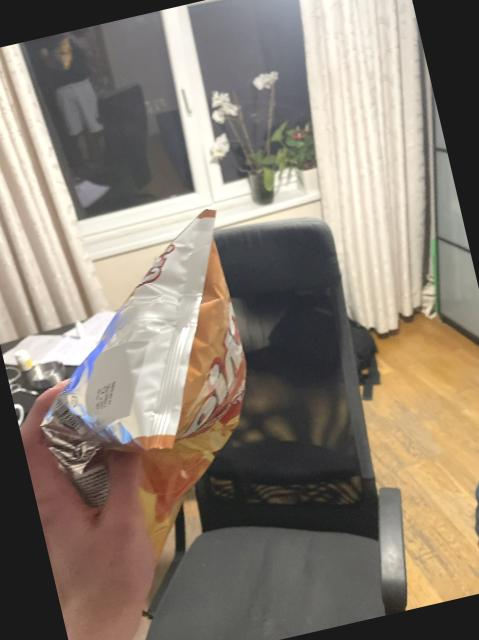Chio Cascaval 125g: (10, 211, 292, 591)
